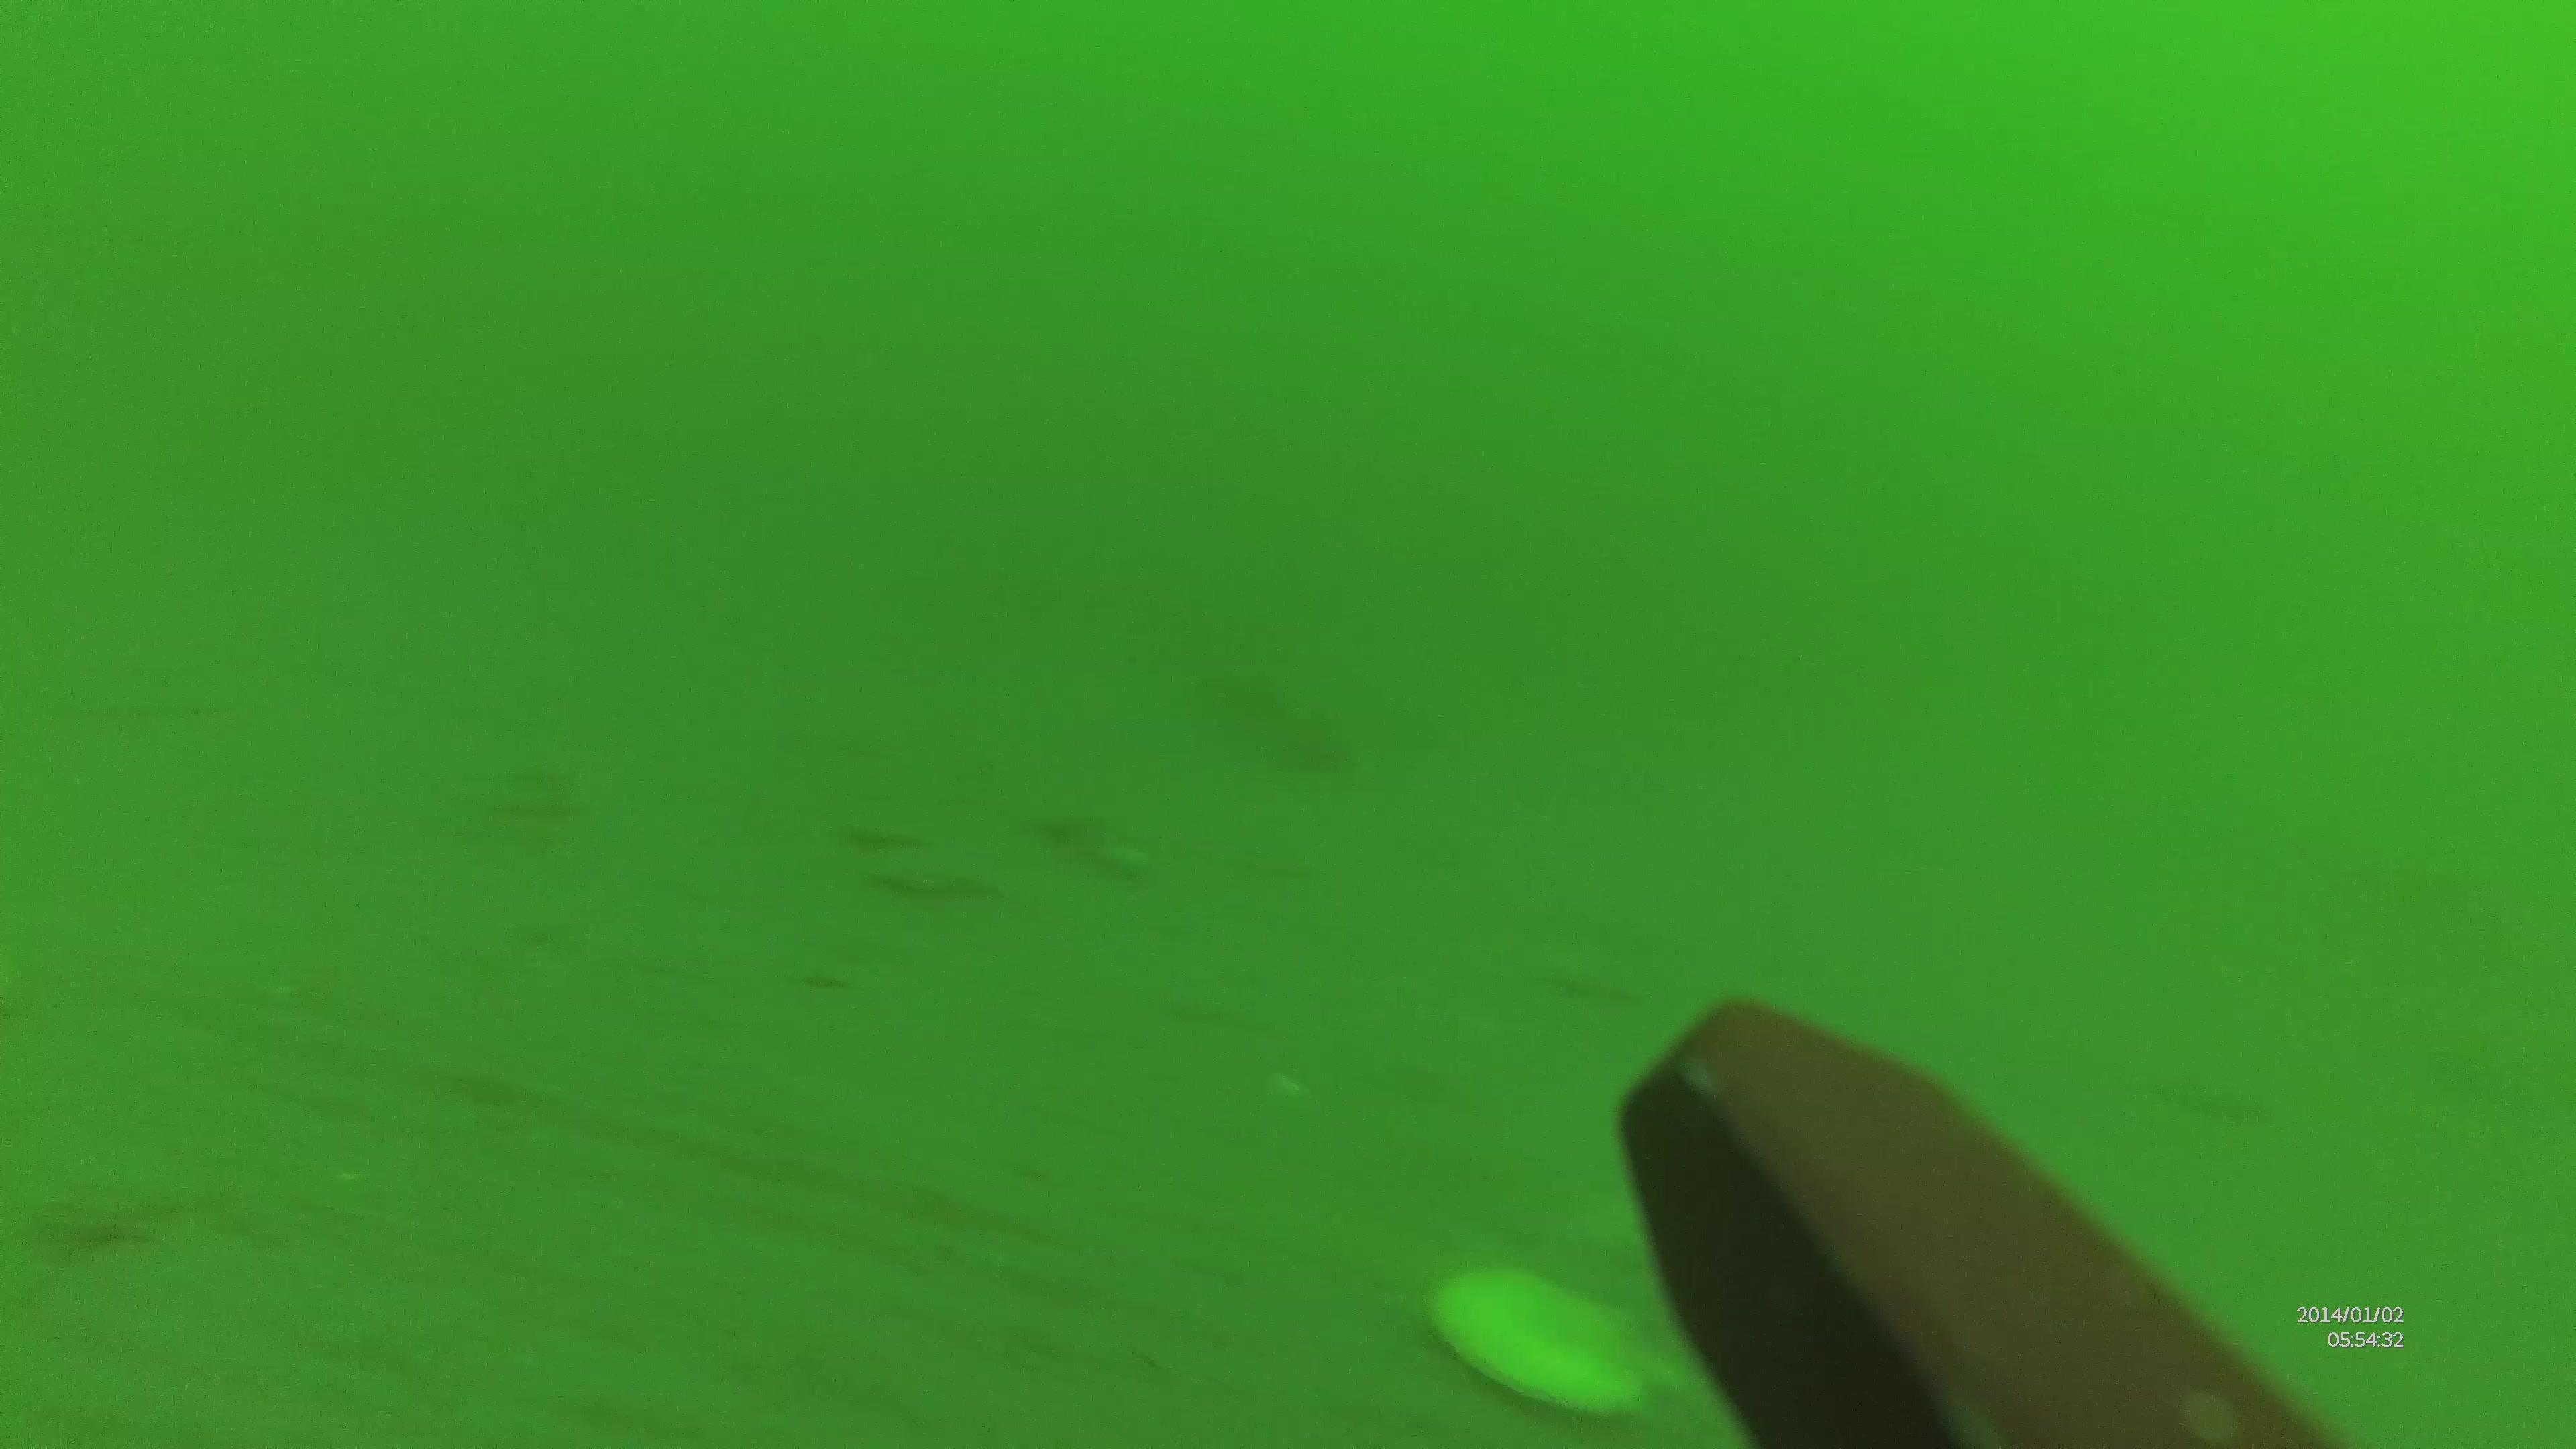scallop: (1426, 1261, 1656, 1424)
